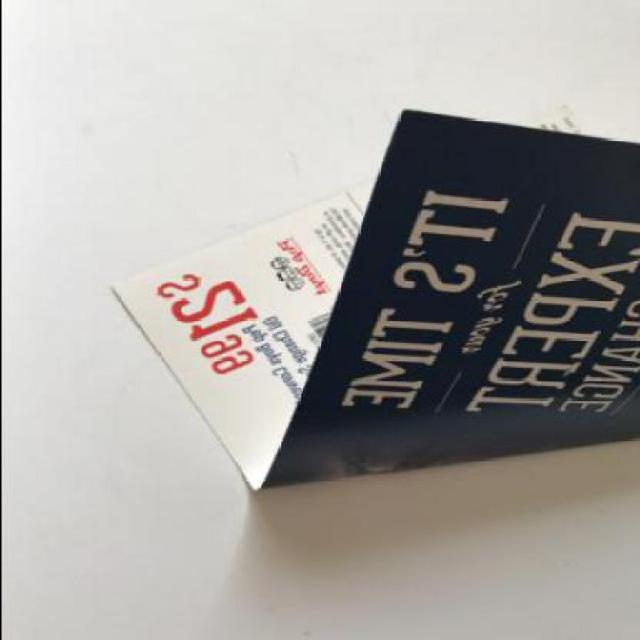PAPER: (106, 105, 639, 490)
